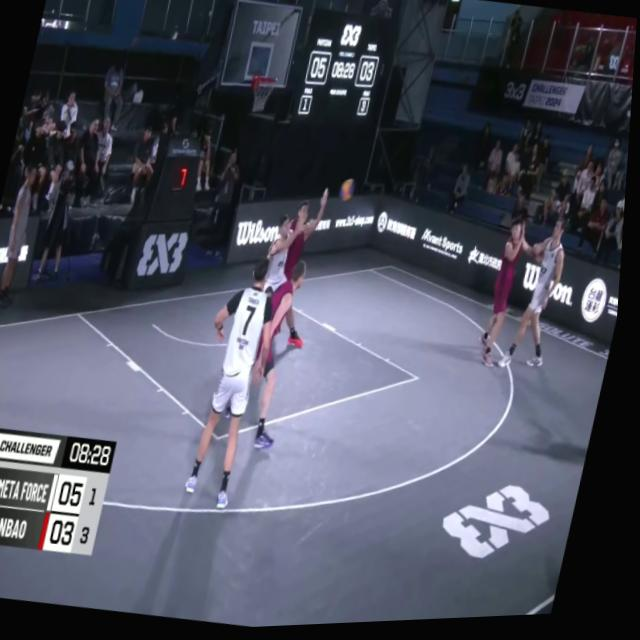ball: (339, 176, 363, 213)
hoop: (246, 70, 279, 124)
player: (179, 255, 292, 515), (215, 253, 320, 463), (495, 218, 576, 383), (265, 182, 337, 358), (243, 205, 313, 356), (480, 218, 533, 376)
